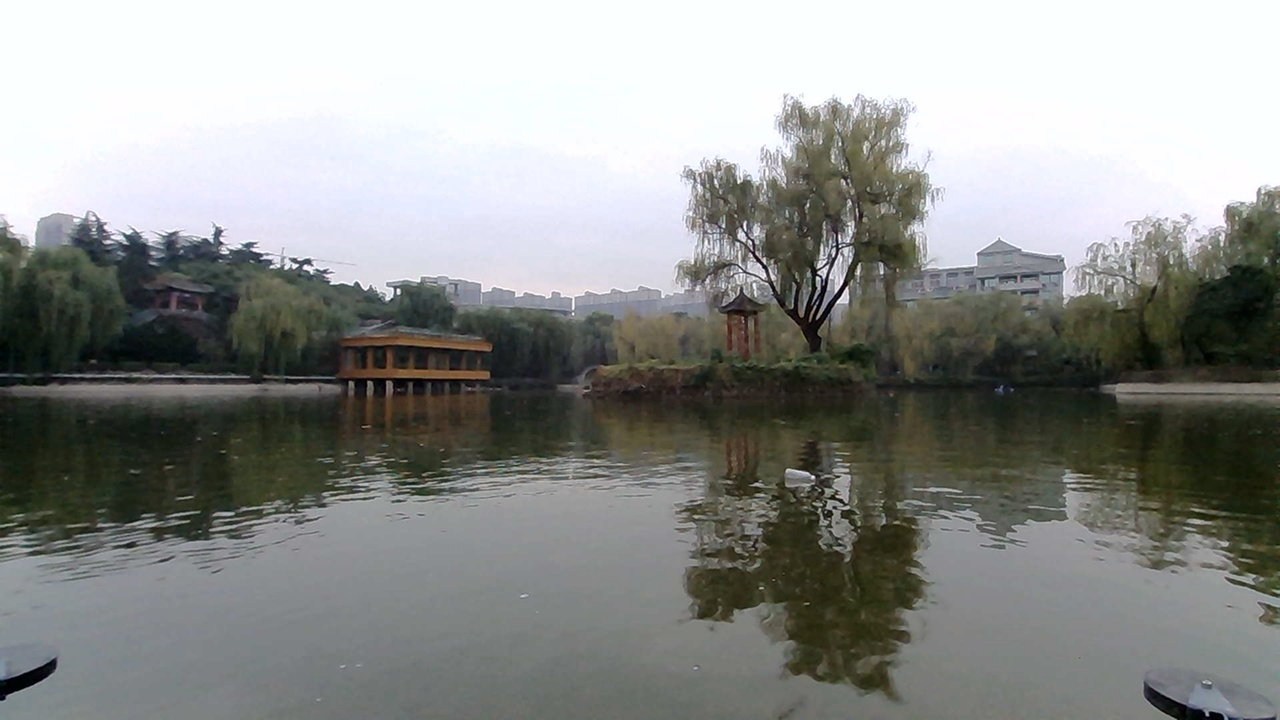bottle: (761, 455, 825, 488)
